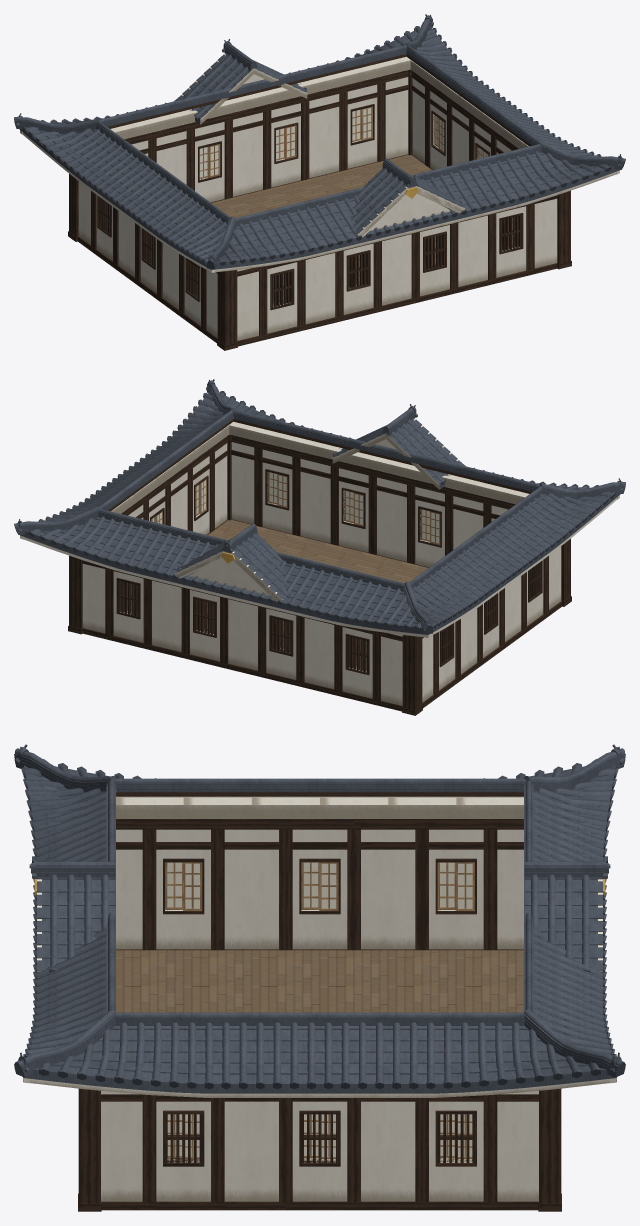
Rendered from HO_Castle_Keep_Tier2.fbx.
3 renders of one model, top to bottom at view 1: azimuth 30°, elevation 25°; view 2: azimuth 150°, elevation 25°; view 3: azimuth 270°, elevation 25°, orthographic. The views are drawn at different scales.
Visible parts, largest first — view 1: HO_Castle_Keep_Tier2_RoofTiles, HO_Castle_Keep_Tier2_Walls__Plaster_White, HO_Castle_Keep_Tier2_Walls__Timber_Dark, HO_Castle_Keep_Tier2_RoofFrame__Plaster_White, HO_Castle_Keep_Tier2_Gable__RoofTile_Clay, HO_Castle_Keep_Tier2_Walls__Wood_Planks, HO_Castle_Keep_Tier2_Gable__Plaster_White, HO_Castle_Keep_Tier2_Walls__Shoji_Paper, HO_Castle_Keep_Tier2_Walls__Timber_Light, HO_Castle_Keep_Tier2_RoofFrame__Timber_Dark; view 2: HO_Castle_Keep_Tier2_RoofTiles, HO_Castle_Keep_Tier2_Walls__Plaster_White, HO_Castle_Keep_Tier2_Walls__Timber_Dark, HO_Castle_Keep_Tier2_RoofFrame__Plaster_White, HO_Castle_Keep_Tier2_Gable__RoofTile_Clay, HO_Castle_Keep_Tier2_Walls__Wood_Planks, HO_Castle_Keep_Tier2_Gable__Plaster_White, HO_Castle_Keep_Tier2_Walls__Shoji_Paper, HO_Castle_Keep_Tier2_Walls__Timber_Light, HO_Castle_Keep_Tier2_RoofFrame__Timber_Dark; view 3: HO_Castle_Keep_Tier2_RoofTiles, HO_Castle_Keep_Tier2_Walls__Plaster_White, HO_Castle_Keep_Tier2_Walls__Timber_Dark, HO_Castle_Keep_Tier2_Walls__Wood_Planks, HO_Castle_Keep_Tier2_Gable__RoofTile_Clay, HO_Castle_Keep_Tier2_RoofFrame__Plaster_White, HO_Castle_Keep_Tier2_Walls__Shoji_Paper, HO_Castle_Keep_Tier2_Walls__Timber_Light, HO_Castle_Keep_Tier2_RoofFrame__Timber_Dark.
Part boxes in pixels (x1,y1,x2,y2): HO_Castle_Keep_Tier2_RoofTiles: [14, 14, 625, 269]; HO_Castle_Keep_Tier2_Walls__Plaster_White: [78, 77, 557, 340]; HO_Castle_Keep_Tier2_Walls__Timber_Dark: [68, 69, 571, 350]; HO_Castle_Keep_Tier2_RoofFrame__Plaster_White: [20, 56, 619, 272]; HO_Castle_Keep_Tier2_Gable__RoofTile_Clay: [175, 39, 463, 234]; HO_Castle_Keep_Tier2_Walls__Wood_Planks: [211, 155, 431, 217]; HO_Castle_Keep_Tier2_Gable__Plaster_White: [181, 53, 464, 237]; HO_Castle_Keep_Tier2_Walls__Shoji_Paper: [199, 108, 512, 300]; HO_Castle_Keep_Tier2_Walls__Timber_Light: [199, 106, 512, 303]; HO_Castle_Keep_Tier2_RoofFrame__Timber_Dark: [108, 54, 531, 146]; HO_Castle_Keep_Tier2_RoofTiles: [14, 379, 625, 634]; HO_Castle_Keep_Tier2_Walls__Plaster_White: [82, 442, 561, 705]; HO_Castle_Keep_Tier2_Walls__Timber_Dark: [68, 434, 571, 715]; HO_Castle_Keep_Tier2_RoofFrame__Plaster_White: [20, 421, 619, 637]; HO_Castle_Keep_Tier2_Gable__RoofTile_Clay: [176, 404, 464, 599]; HO_Castle_Keep_Tier2_Walls__Wood_Planks: [208, 520, 428, 582]; HO_Castle_Keep_Tier2_Gable__Plaster_White: [175, 418, 458, 602]; HO_Castle_Keep_Tier2_Walls__Shoji_Paper: [131, 472, 439, 667]; HO_Castle_Keep_Tier2_Walls__Timber_Light: [127, 472, 440, 669]; HO_Castle_Keep_Tier2_RoofFrame__Timber_Dark: [108, 419, 531, 511]; HO_Castle_Keep_Tier2_RoofTiles: [14, 744, 625, 1093]; HO_Castle_Keep_Tier2_Walls__Plaster_White: [101, 829, 538, 1201]; HO_Castle_Keep_Tier2_Walls__Timber_Dark: [78, 819, 561, 1211]; HO_Castle_Keep_Tier2_Walls__Wood_Planks: [116, 950, 523, 1012]; HO_Castle_Keep_Tier2_Gable__RoofTile_Clay: [29, 856, 610, 973]; HO_Castle_Keep_Tier2_RoofFrame__Plaster_White: [23, 775, 616, 1097]; HO_Castle_Keep_Tier2_Walls__Shoji_Paper: [167, 862, 472, 1156]; HO_Castle_Keep_Tier2_Walls__Timber_Light: [165, 862, 474, 1159]; HO_Castle_Keep_Tier2_RoofFrame__Timber_Dark: [116, 792, 523, 796].
Size of the model in its own units: 43.9 by 14.4 by 35.9.
